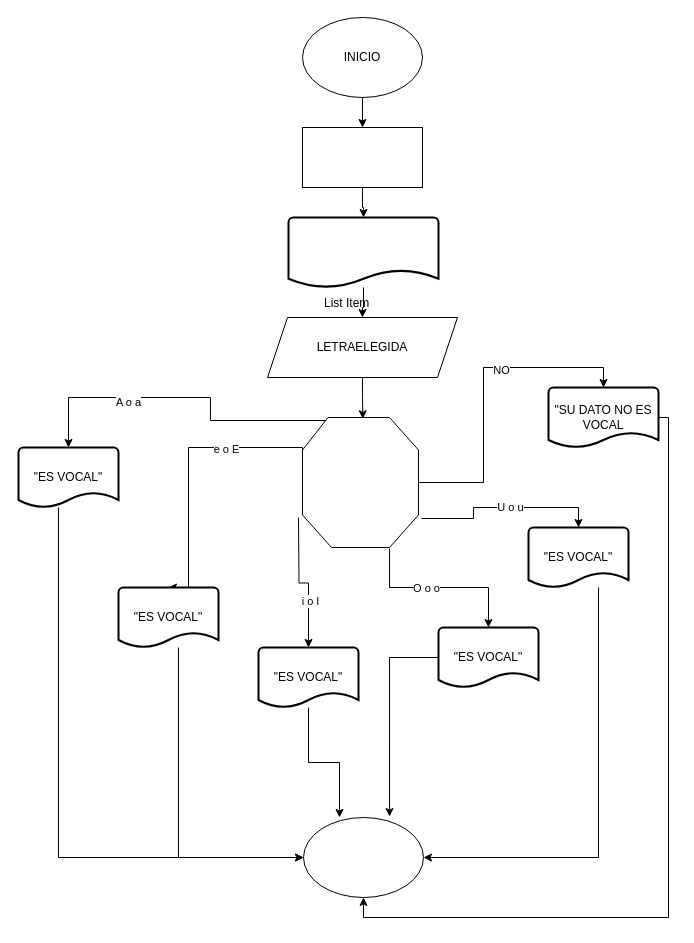
Image size: 694x943. Some labels were removed from this diagram. Each missing label, with the centre of its shape:
"INGRESE LA LETRA QUE DESEA COMPROBAR": pixel 363 252
FIN: pixel 363 857
LETRAELEGIDA(chr): pixel 362 157
VOCALES: pixel 360 482
